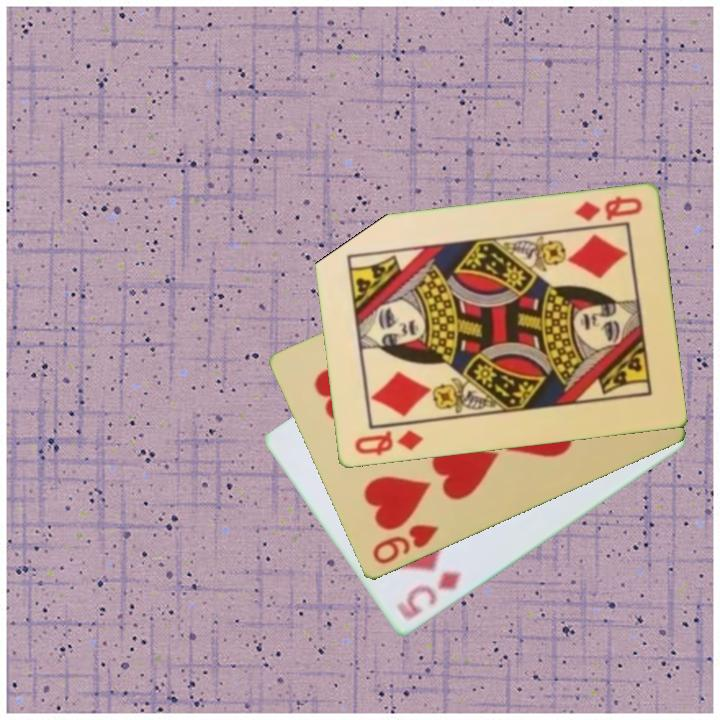5d: (393, 568, 465, 624)
9h: (368, 521, 442, 568)
Qd: (351, 427, 426, 459), (570, 193, 645, 225)
